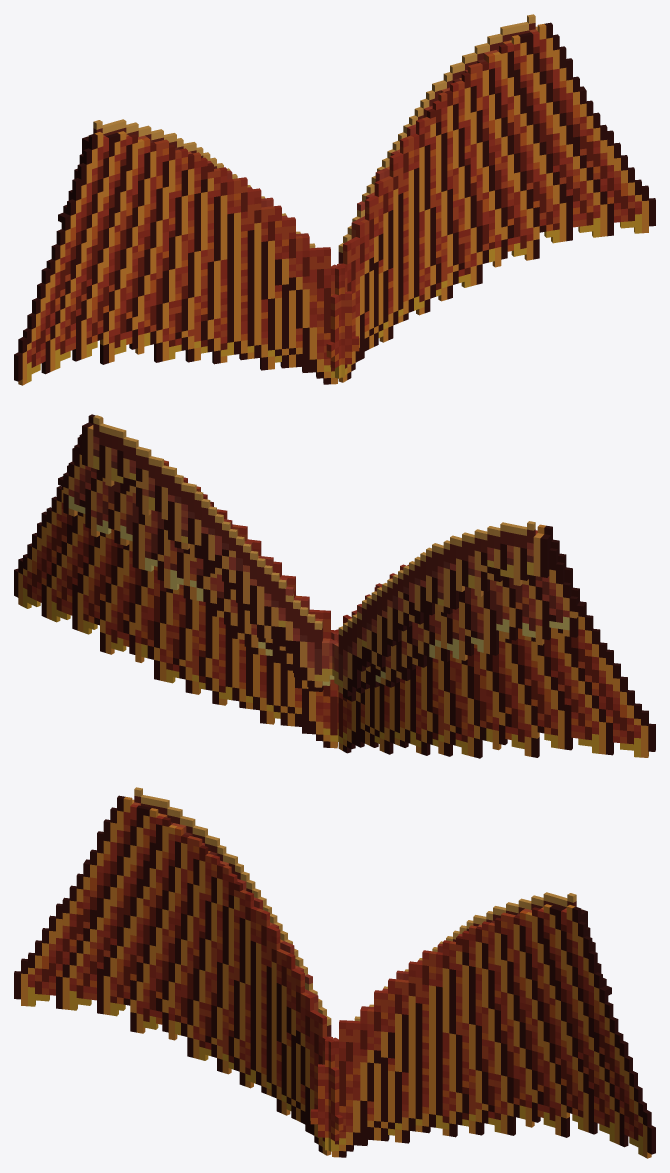
The model's file is emberfall_wings.glb.
The picture shows the model from 3 angles, top to bottom: view 1: azimuth 30°, elevation 25°; view 2: azimuth 150°, elevation 25°; view 3: azimuth 330°, elevation 25°; orthographic projection.
Parts seen in each view (by area): view 1: Feathers.L, Feathers.R; view 2: Feathers.R, Feathers.L; view 3: Feathers.R, Feathers.L.
Boxes of the visible parts, left/top/right/bottom form: Feathers.L: left=14, top=119, right=359, bottom=385; Feathers.R: left=326, top=14, right=655, bottom=382; Feathers.R: left=14, top=414, right=338, bottom=748; Feathers.L: left=330, top=521, right=655, bottom=758; Feathers.R: left=310, top=892, right=655, bottom=1158; Feathers.L: left=14, top=787, right=343, bottom=1155.
Size of the model in its own units: 3.26 by 1.44 by 0.2959.
